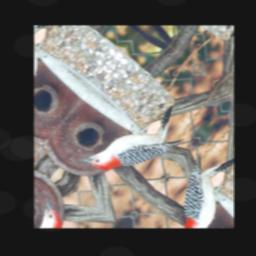Woodpecker: (76, 79, 206, 208)
